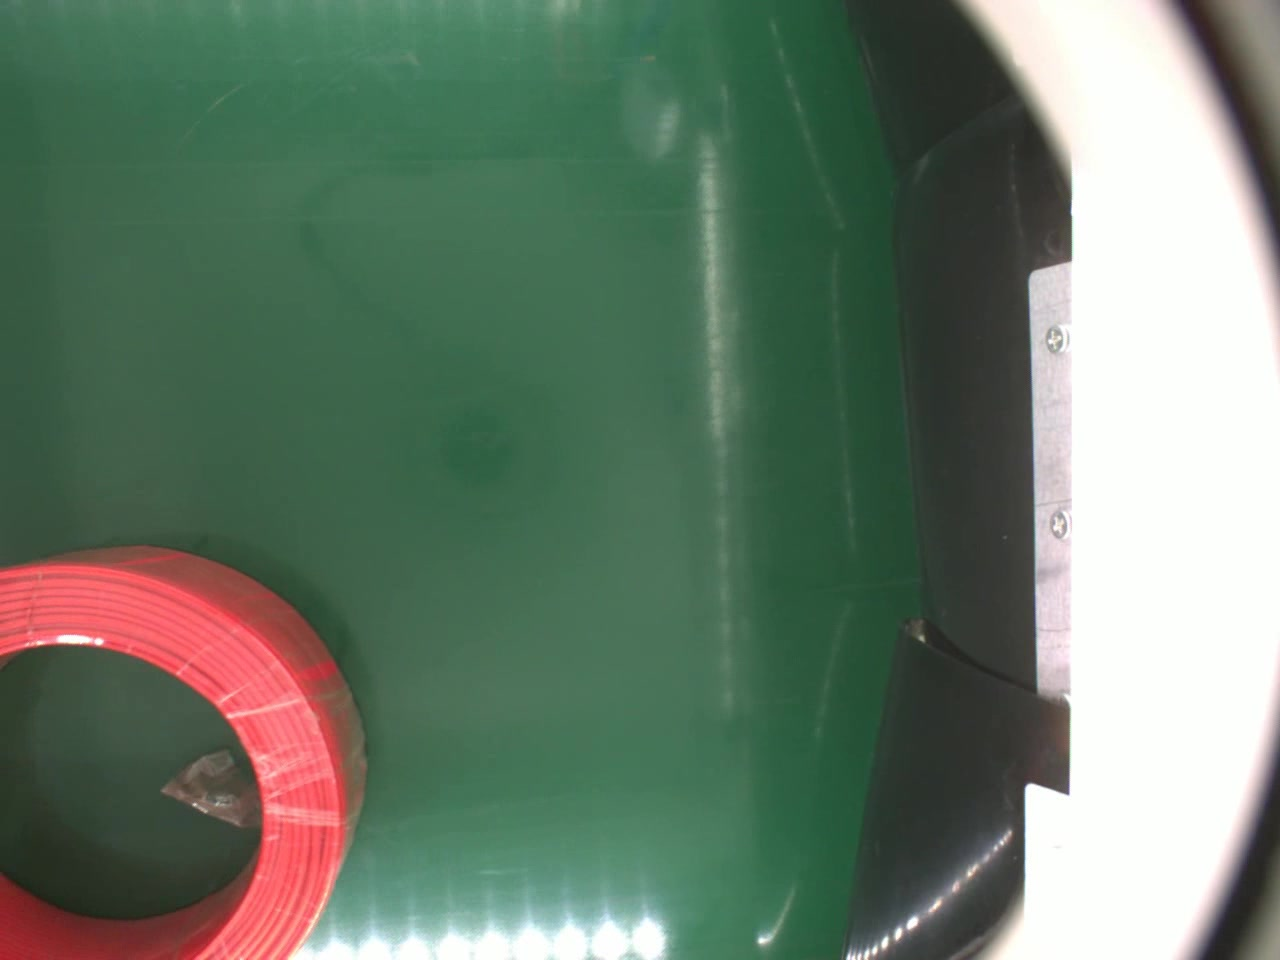red: (0, 537, 371, 960)
